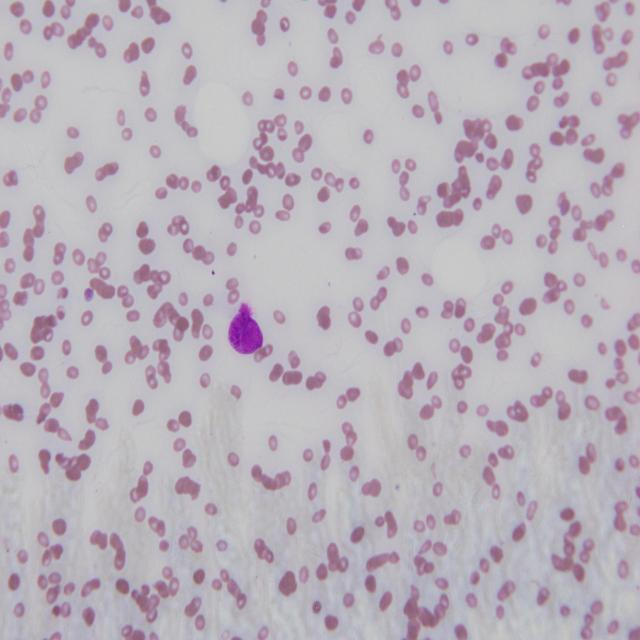cell: (229, 303, 262, 354)
